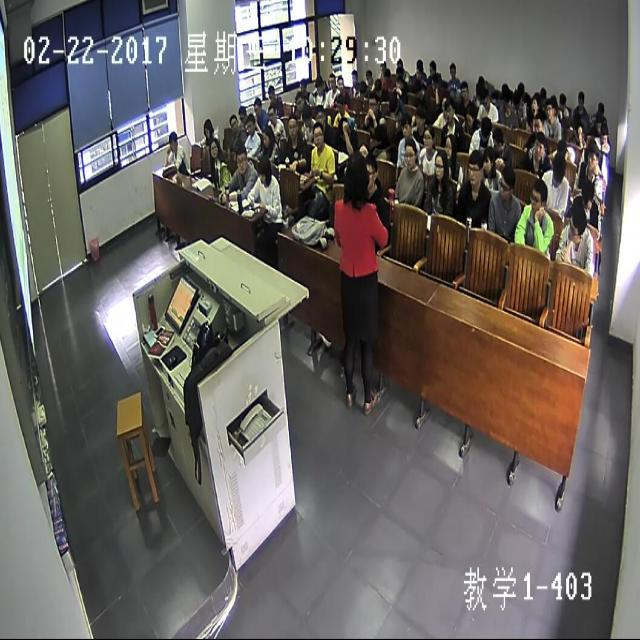person: (346, 149, 367, 205), (566, 199, 586, 250), (464, 149, 484, 189), (527, 180, 547, 218), (498, 164, 514, 206), (551, 149, 566, 189), (362, 152, 376, 193), (490, 125, 506, 154), (404, 135, 418, 168), (433, 147, 447, 179), (256, 153, 270, 184), (398, 110, 412, 140), (413, 100, 427, 130), (480, 145, 493, 176), (420, 122, 434, 150), (582, 176, 594, 208), (531, 134, 544, 163), (478, 114, 492, 140), (261, 122, 274, 149), (310, 123, 324, 148), (444, 132, 456, 161), (236, 144, 248, 172), (208, 134, 220, 160), (300, 102, 312, 128), (337, 114, 350, 138), (314, 102, 326, 127), (443, 98, 455, 123), (574, 118, 586, 143), (287, 114, 299, 138), (367, 93, 378, 118), (587, 146, 598, 170), (236, 102, 247, 125), (229, 111, 240, 133), (246, 111, 257, 133), (557, 88, 568, 110), (295, 89, 305, 113), (334, 92, 345, 113), (529, 94, 540, 115), (478, 88, 490, 107), (252, 96, 263, 116), (265, 103, 276, 123), (576, 85, 586, 107), (266, 82, 276, 103), (464, 104, 474, 125), (504, 93, 514, 114), (532, 112, 542, 133), (203, 116, 212, 138), (414, 77, 423, 99), (600, 124, 609, 146), (388, 95, 398, 114), (512, 88, 522, 107), (168, 131, 177, 152), (314, 73, 323, 94), (440, 92, 449, 113), (544, 98, 553, 119), (326, 70, 335, 90), (364, 67, 373, 87), (500, 77, 509, 97), (516, 78, 526, 96), (415, 56, 423, 78), (426, 59, 437, 75), (460, 79, 468, 101), (477, 69, 486, 88), (336, 72, 345, 90), (394, 74, 403, 92), (474, 78, 483, 96), (596, 100, 605, 118), (538, 84, 546, 104), (358, 78, 367, 95), (351, 69, 359, 88), (432, 74, 440, 93), (491, 90, 499, 109), (383, 68, 391, 86), (448, 64, 457, 80), (594, 116, 603, 132), (298, 78, 306, 94), (374, 78, 382, 94), (396, 64, 403, 78), (381, 59, 386, 74), (397, 54, 402, 68)
